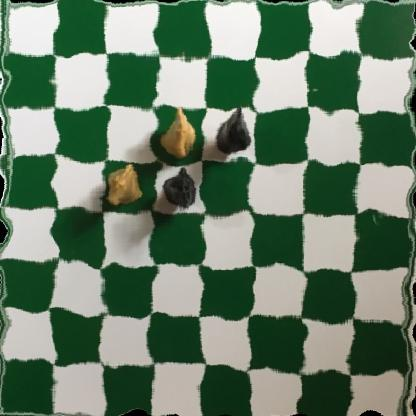black-knight: (162, 161, 204, 213), (214, 106, 255, 157)
white-knight: (159, 103, 198, 157), (105, 160, 142, 208)
